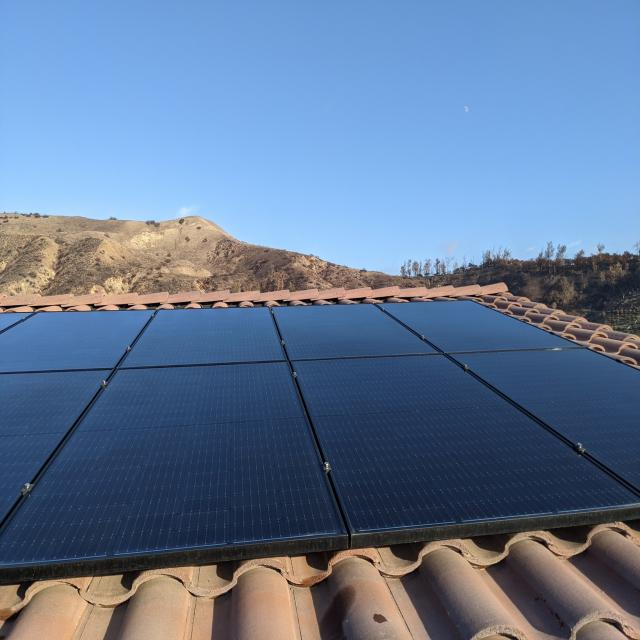clean-solar-panel: (0, 290, 640, 600)
